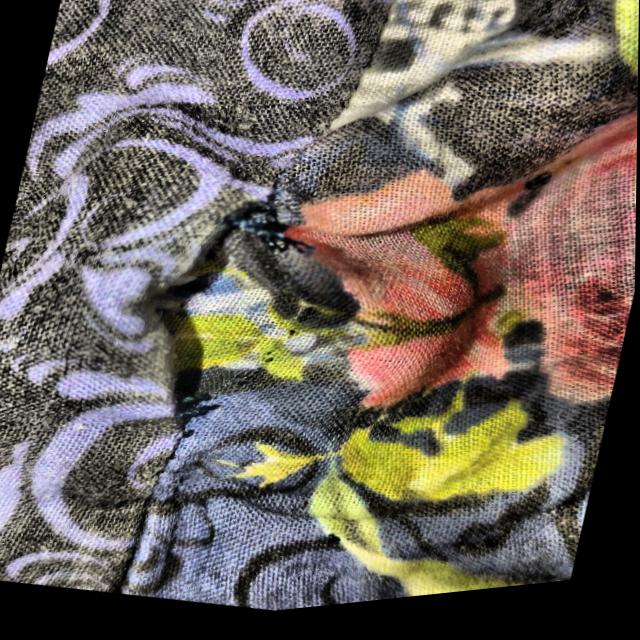seam: (96, 142, 387, 490)
